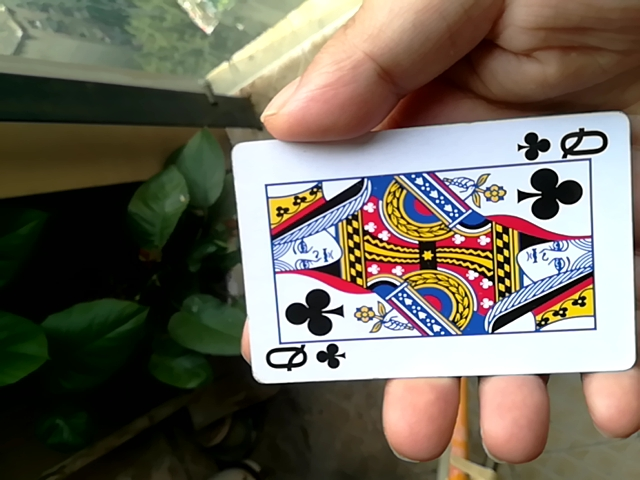mh q: (229, 111, 633, 384)
